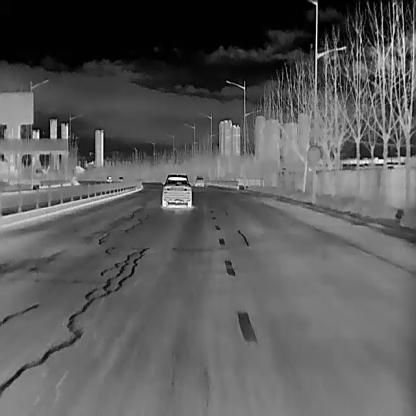car: (161, 173, 191, 208), (194, 175, 204, 186), (105, 175, 112, 182), (117, 176, 124, 181)
